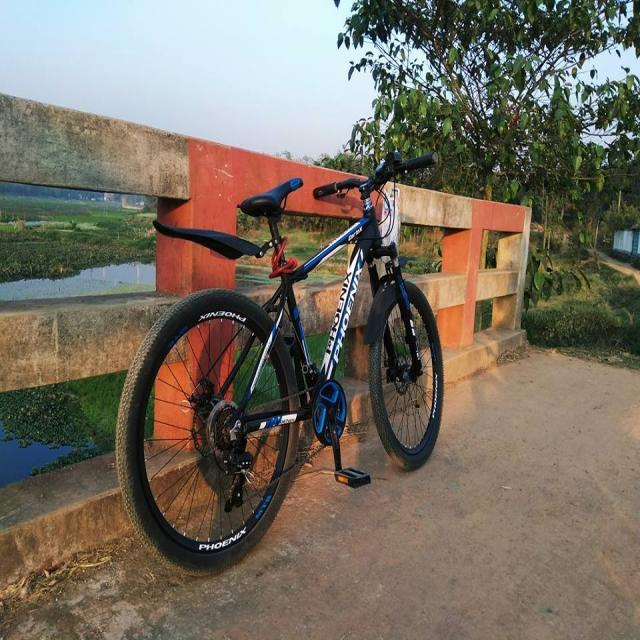Bicycle: (101, 129, 470, 587)
